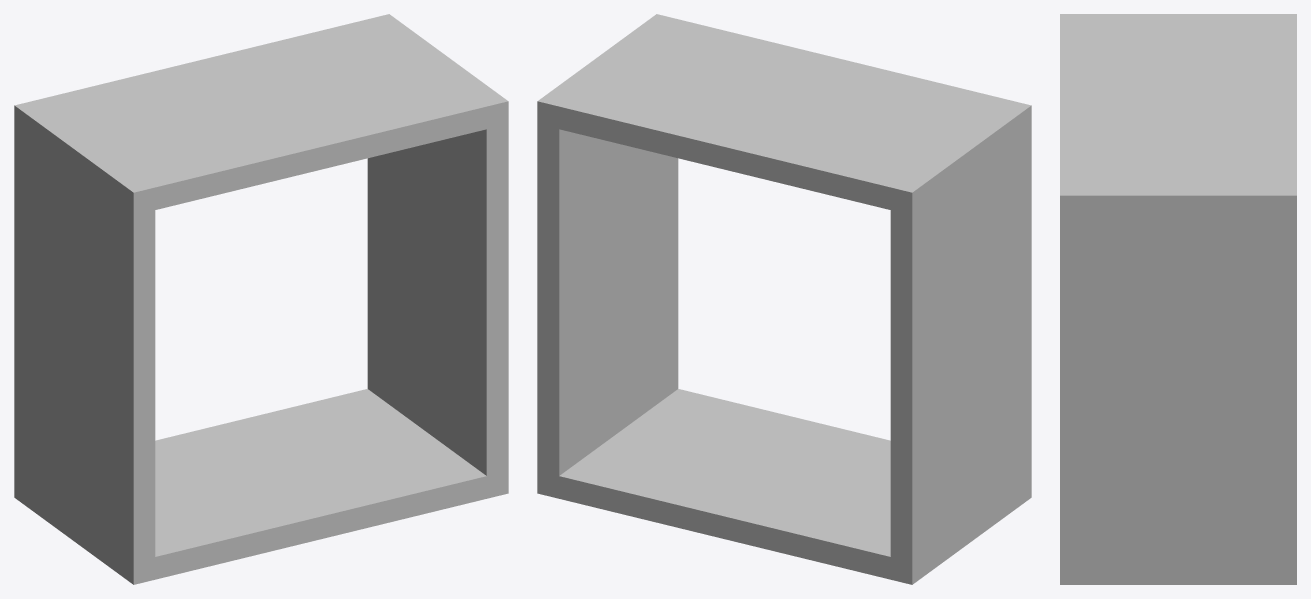
File: Shelf_04.fbx
The picture shows the model from 3 angles, left to right: view 1: azimuth 30°, elevation 25°; view 2: azimuth 150°, elevation 25°; view 3: azimuth 270°, elevation 25°; orthographic projection.
Parts seen in each view (by area): view 1: Shelf_04; view 2: Shelf_04; view 3: Shelf_04.
Part boxes in pixels (x1=…): Shelf_04: x1=14, y1=14, x2=508, y2=584; Shelf_04: x1=537, y1=14, x2=1031, y2=584; Shelf_04: x1=1060, y1=14, x2=1296, y2=584.
Size of the model in its own units: 27.22 by 27.22 by 15.
